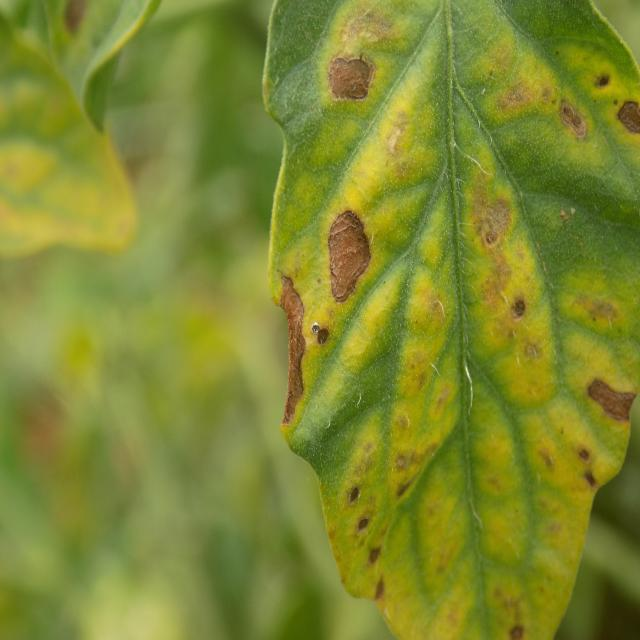tomato_early blight: (266, 0, 637, 638)
